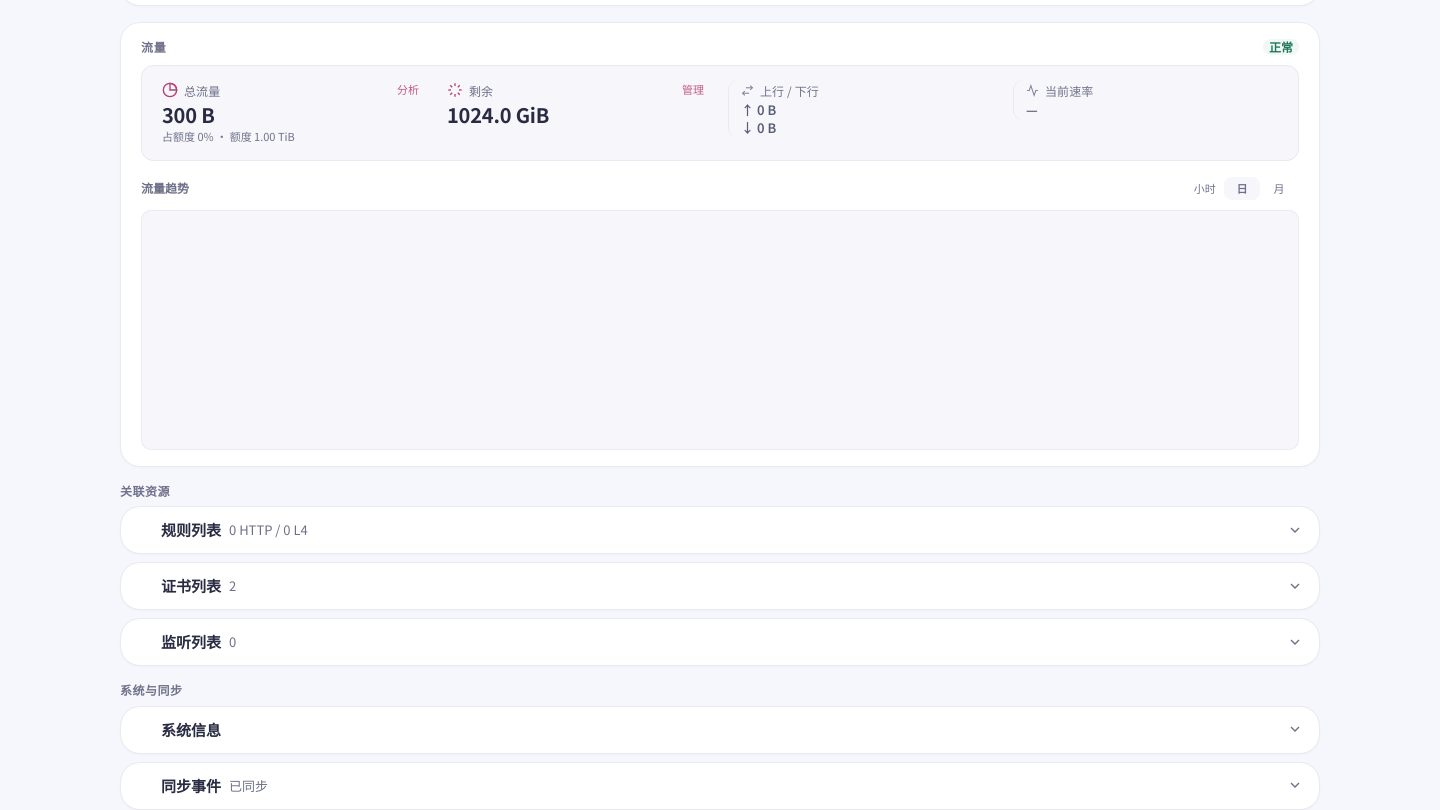
Test: AgentDetailPage › renders certificate rows with domain primary id and localized status
(page scrolled)
Click the button with class "collapsible-section__header" showing "证书列表 2". click: (191, 586)
box: [121, 563, 1319, 609]
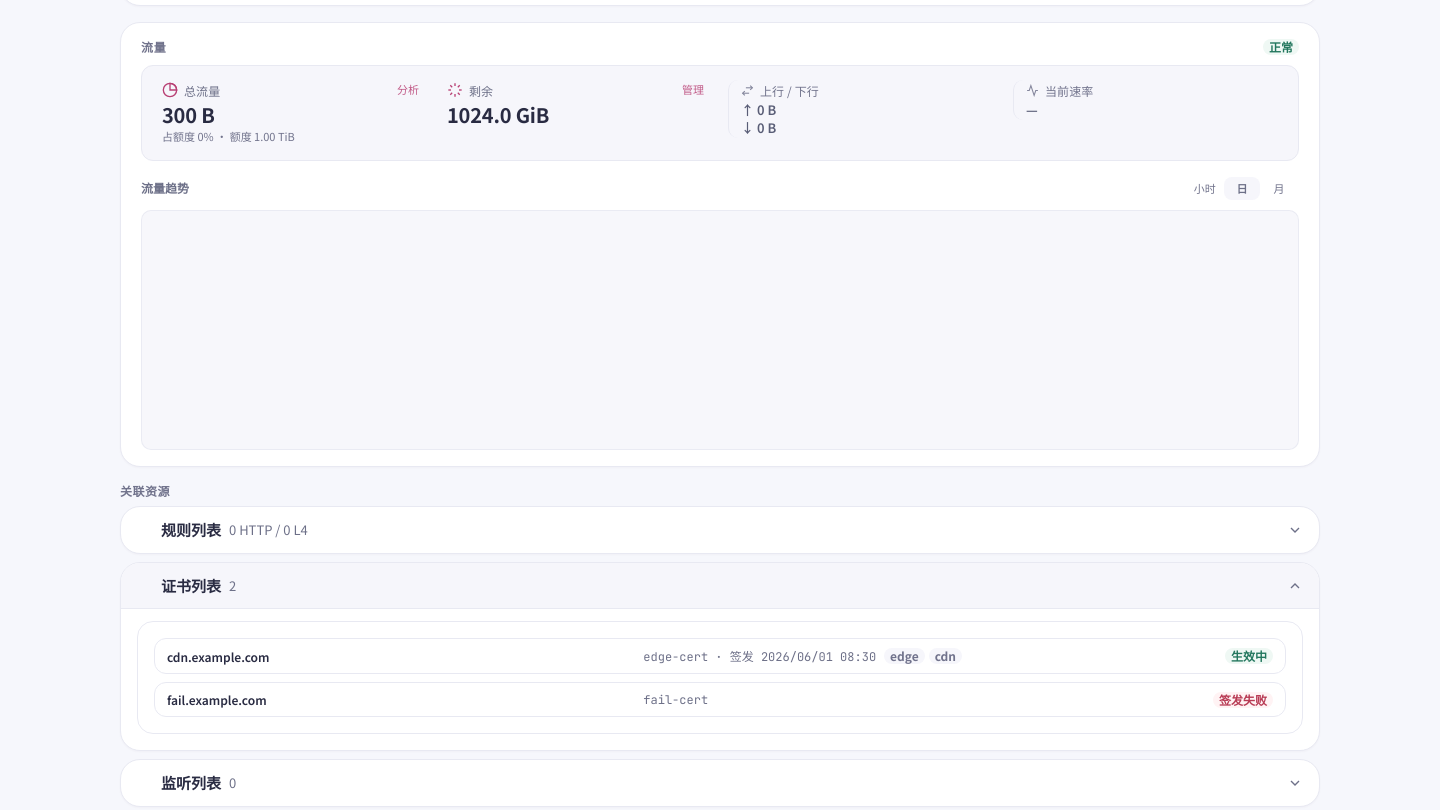
Check: the element with class "simple-list__row" shows "cdn.example.com", box [167, 648, 270, 665]
Check: the element with class "simple-list__row" shows "生效中", box [1231, 647, 1267, 664]
Check: the element with class "simple-list__row" shows "edge", box [890, 647, 919, 664]
